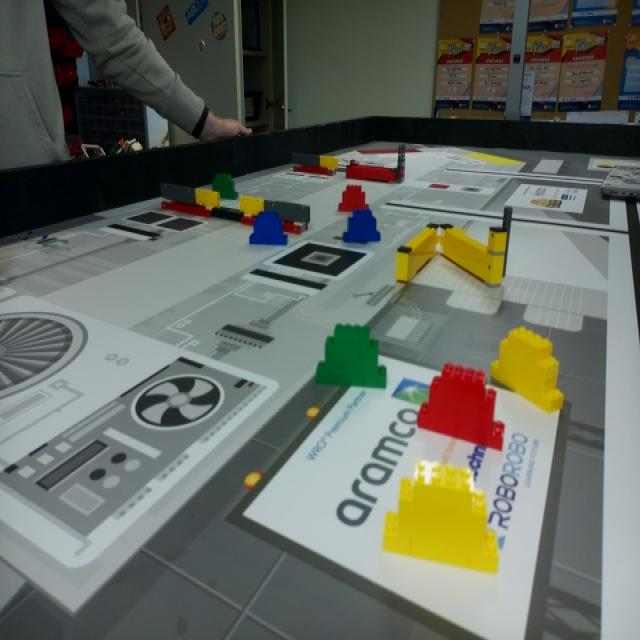blau: (345, 212, 382, 244), (252, 213, 286, 244)
gruen: (312, 324, 388, 392), (211, 174, 240, 198)
rot: (424, 362, 506, 451), (338, 182, 365, 212)
yellow: (384, 458, 500, 576), (492, 327, 564, 413)
